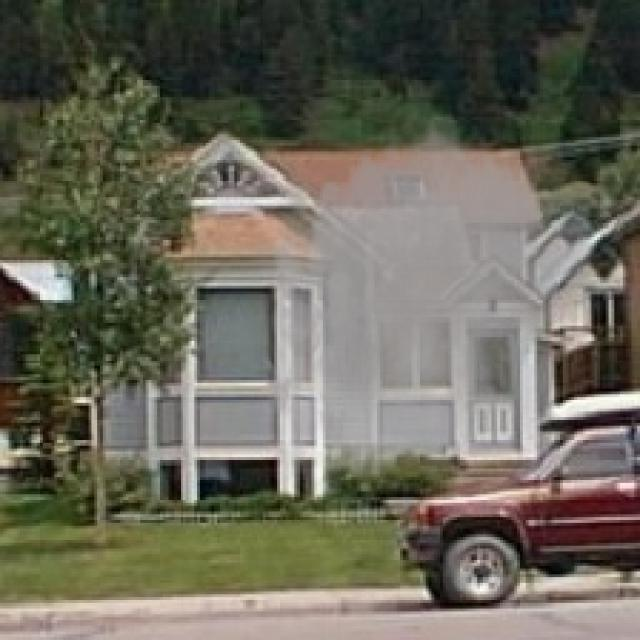smoke: (245, 103, 606, 511)
